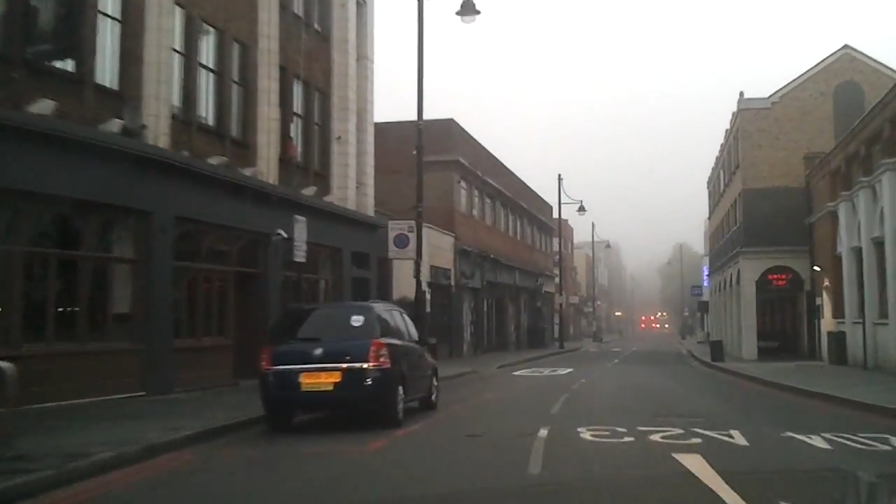car: (254, 296, 441, 430)
